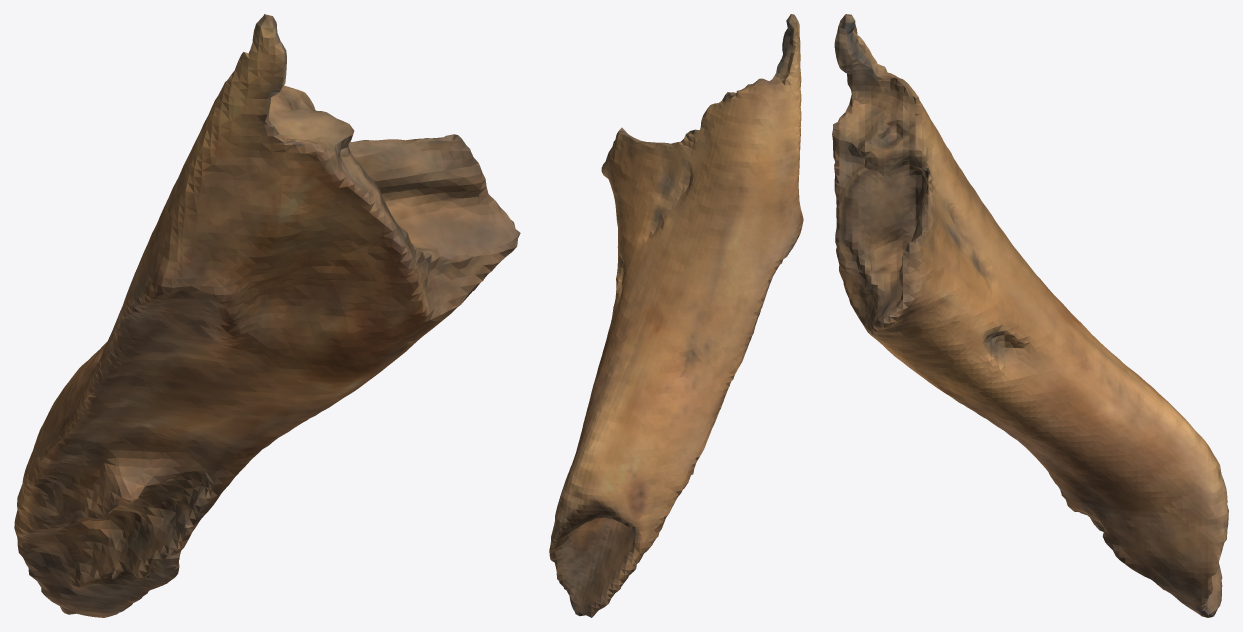
The model's file is MB Lag 1 MAN.obj.
3 renders of one model, left to right at view 1: azimuth 30°, elevation 25°; view 2: azimuth 150°, elevation 25°; view 3: azimuth 270°, elevation 25°, orthographic. The views are drawn at different scales.
Size of the model in its own units: 13.18 by 29.73 by 18.73.
1 material, 1 textured.
